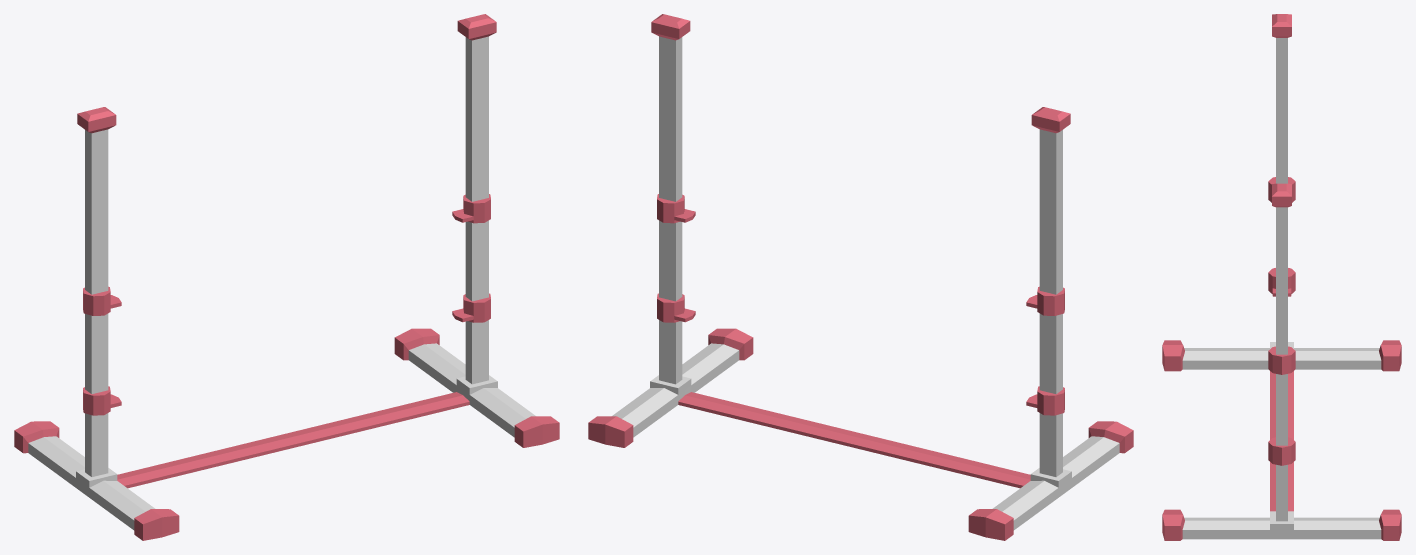
Rendered from Obstacle_1.fbx.
3 views of the same model, side by side, from view 1: azimuth 30°, elevation 25°; view 2: azimuth 150°, elevation 25°; view 3: azimuth 270°, elevation 25° (orthographic). The views are drawn at different scales.
Parts seen in each view (by area): view 1: Obstacle.001; view 2: Obstacle.001; view 3: Obstacle.001.
Boxes of the visible parts, left/top/right/bottom form: Obstacle.001: left=14, top=14, right=559, bottom=540; Obstacle.001: left=588, top=14, right=1133, bottom=540; Obstacle.001: left=1162, top=14, right=1401, bottom=540.
Size of the model in its own units: 119 by 219 by 190.
